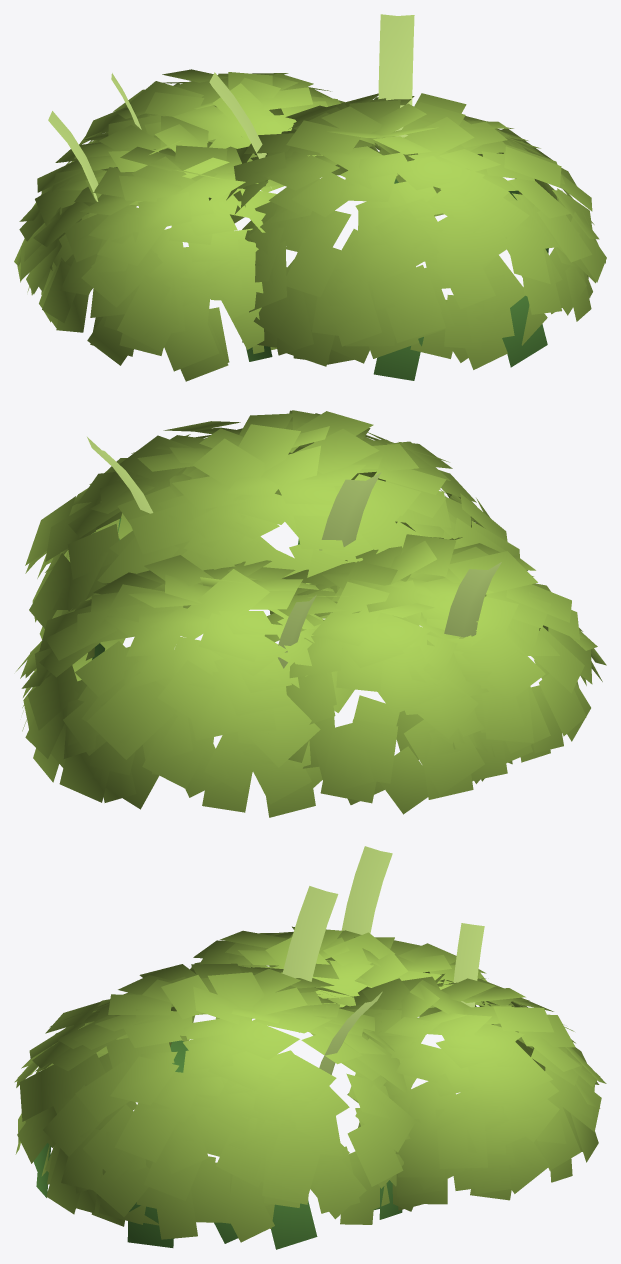
File: plant_groundcover_1.glb
3 renders of one model, top to bottom at view 1: azimuth 30°, elevation 25°; view 2: azimuth 150°, elevation 25°; view 3: azimuth 270°, elevation 25°, orthographic. The views are drawn at different scales.
Parts seen in each view (by area): view 1: plant_groundcover_1; view 2: plant_groundcover_1; view 3: plant_groundcover_1.
Part boxes in pixels (<box>): plant_groundcover_1: <box>14,14,606,381</box>; plant_groundcover_1: <box>16,410,606,817</box>; plant_groundcover_1: <box>14,846,606,1249</box>.
Bounding box in the file's own units: 1.4 × 0.6147 × 1.47.
